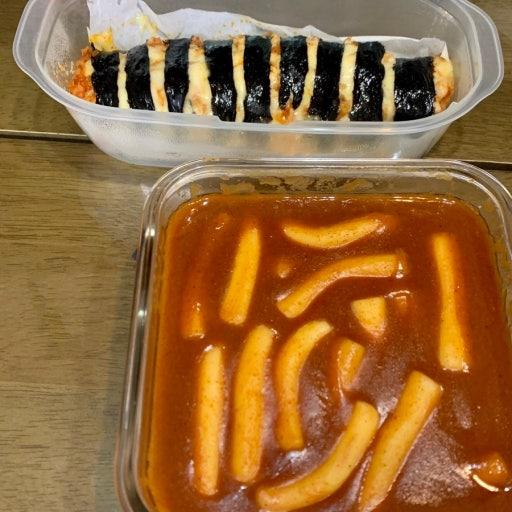Lunch Box: (116, 160, 511, 511), (14, 0, 502, 165)
